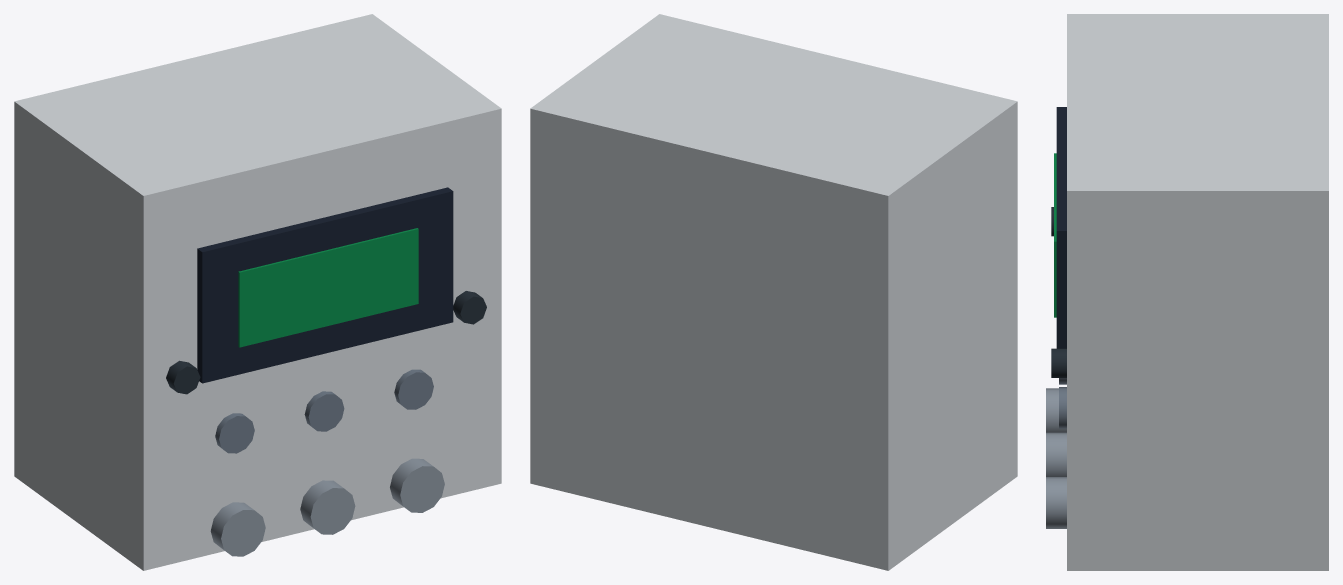
The model's file is instrument.glb.
3 renders of one model, left to right at view 1: azimuth 30°, elevation 25°; view 2: azimuth 150°, elevation 25°; view 3: azimuth 270°, elevation 25°, orthographic.
Bounding box in the file's own units: 0.8 × 0.8 × 0.54.
